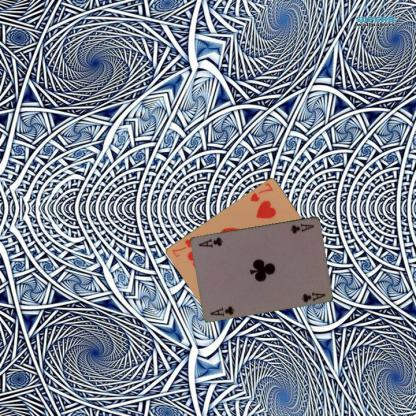7h: (247, 180, 274, 204)
Ac: (207, 303, 236, 318), (288, 220, 315, 235)
